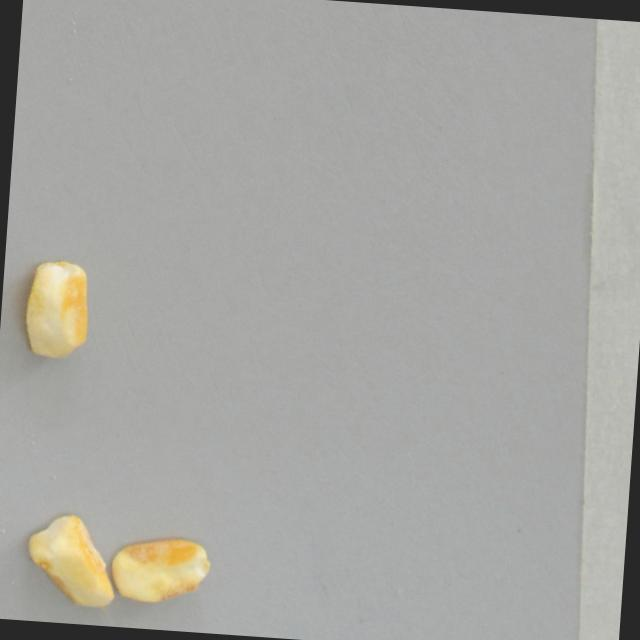estandar: (20, 258, 92, 363)
pelicula: (18, 511, 120, 613), (108, 534, 212, 608)
